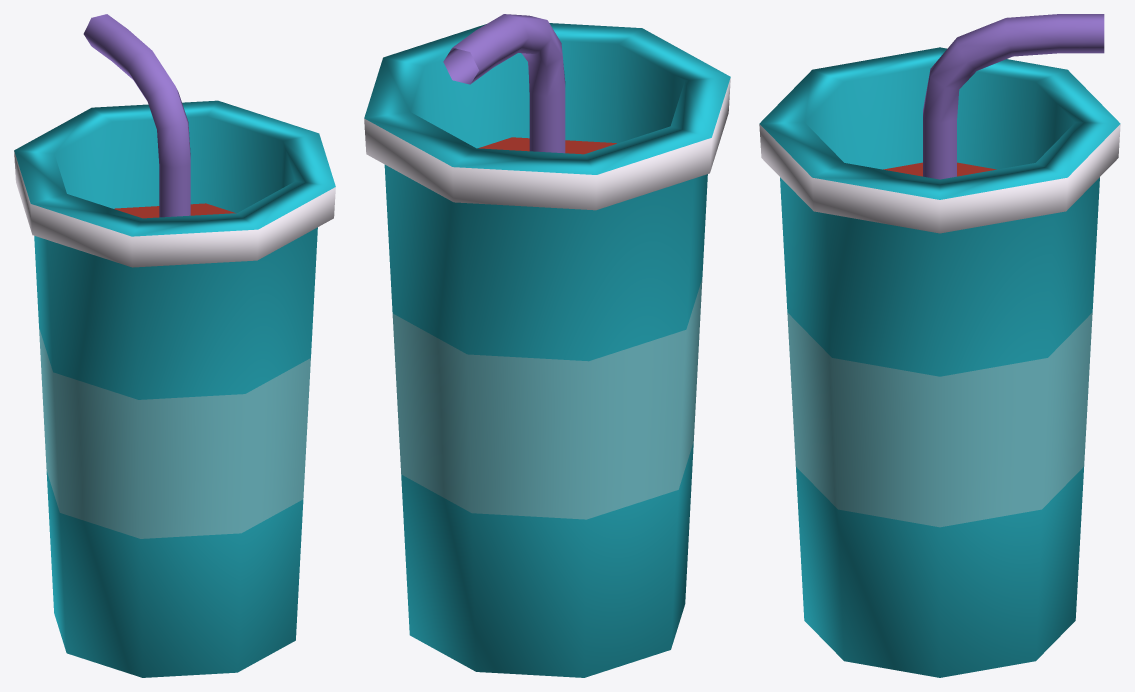
The model's file is Cup of Water.fbx.
The picture shows the model from 3 angles, left to right: view 1: azimuth 30°, elevation 25°; view 2: azimuth 150°, elevation 25°; view 3: azimuth 270°, elevation 25°; orthographic projection. The views are drawn at different scales.
Visible parts, largest first — view 1: Cup_of_Water; view 2: Cup_of_Water; view 3: Cup_of_Water.
Part boxes in pixels (x1=…): Cup_of_Water: x1=14, y1=14, x2=335, y2=677; Cup_of_Water: x1=364, y1=14, x2=730, y2=677; Cup_of_Water: x1=759, y1=14, x2=1120, y2=677.
Bounding box in the file's own units: 25.35 × 46.65 × 25.35.
